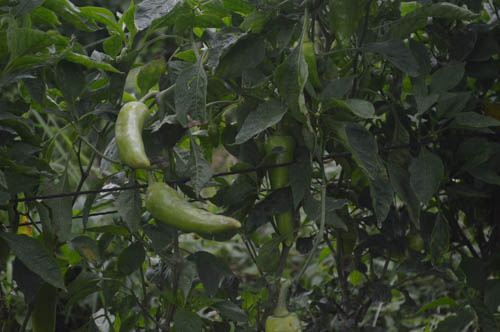ChiliPepper: (142, 175, 245, 241), (260, 131, 300, 244), (113, 94, 155, 173), (23, 277, 61, 332), (302, 34, 328, 95), (331, 2, 360, 53), (259, 303, 302, 332)
